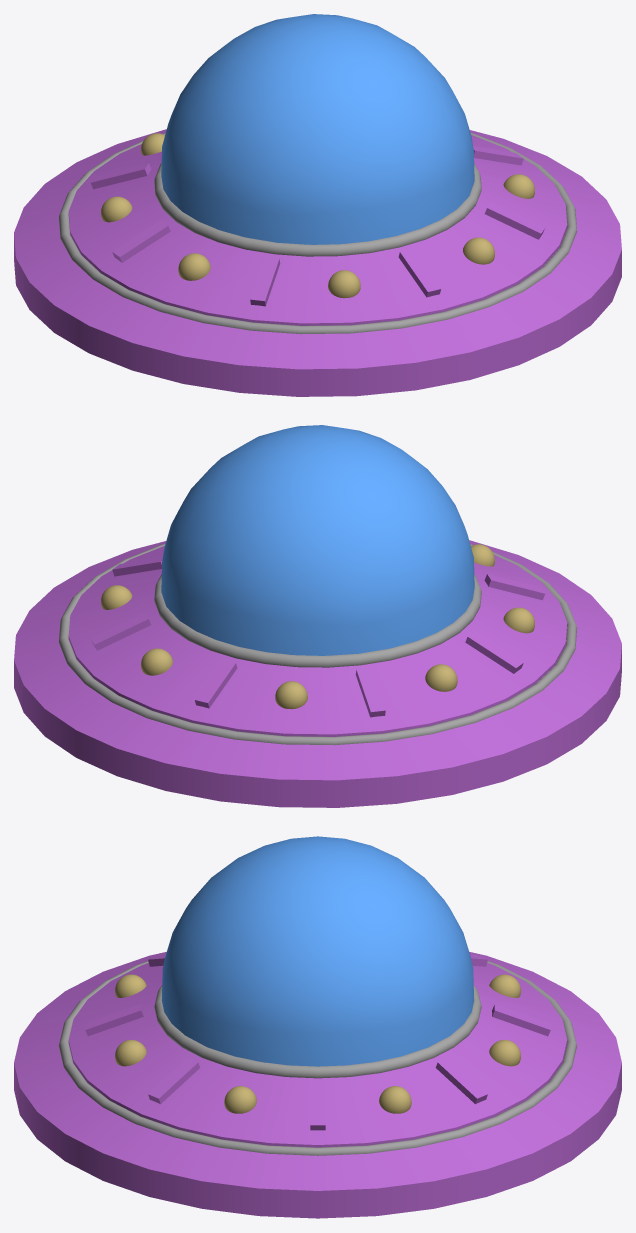
File: UFO.glb
3 renders of one model, top to bottom at view 1: azimuth 30°, elevation 25°; view 2: azimuth 150°, elevation 25°; view 3: azimuth 270°, elevation 25°, orthographic.
Parts seen in each view (by area): view 1: Roundcube, Cylinder, Cylinder.001, Cylinder.002, Cylinder.003, Roundcube.008, Cube.006, Cube, Cube.001, Cube.007, Cube.005, Cube.002; view 2: Roundcube, Cylinder, Cylinder.001, Cylinder.002, Cylinder.003, Roundcube.008, Cube.006, Cube.004, Cube.003, Cube.005, Cube.007, Cube.002; view 3: Roundcube, Cylinder, Cylinder.001, Cylinder.002, Cylinder.003, Roundcube.008, Cube.001, Cube.003, Cube, Cube.004, Cube.002.
Boxes of the visible parts, x1,y1,x2,y2 form: Roundcube: (161,14,474,244); Cylinder: (14,129,621,396); Cylinder.001: (68,135,567,325); Cylinder.002: (58,133,577,334); Cylinder.003: (154,163,481,256); Roundcube.008: (101,133,534,298); Cube.006: (112,220,170,262); Cube: (398,249,440,297); Cube.001: (484,202,545,239); Cube.007: (250,257,280,306); Cube.005: (91,163,151,189); Cube.002: (473,146,523,165); Roundcube: (161,425,474,655); Cylinder: (14,540,621,807); Cylinder.001: (68,546,567,736); Cylinder.002: (58,544,577,745); Cylinder.003: (154,574,481,667); Roundcube.008: (101,544,534,709); Cube.006: (465,631,523,673); Cube.004: (195,660,237,708); Cube.003: (90,613,151,650); Cube.005: (355,668,385,717); Cube.007: (484,574,544,600); Cube.002: (112,557,162,576); Roundcube: (161,836,474,1066); Cylinder: (14,952,621,1218); Cylinder.001: (68,963,567,1147); Cylinder.002: (59,961,576,1155); Cylinder.003: (154,985,481,1078); Roundcube.008: (115,974,520,1113); Cube.001: (148,1058,200,1104); Cube.003: (435,1058,487,1104); Cube: (85,1004,143,1036); Cube.004: (492,1004,550,1036); Cube.002: (310,1082,325,1130).
Size of the model in its own units: 2 by 1.06 by 2.
